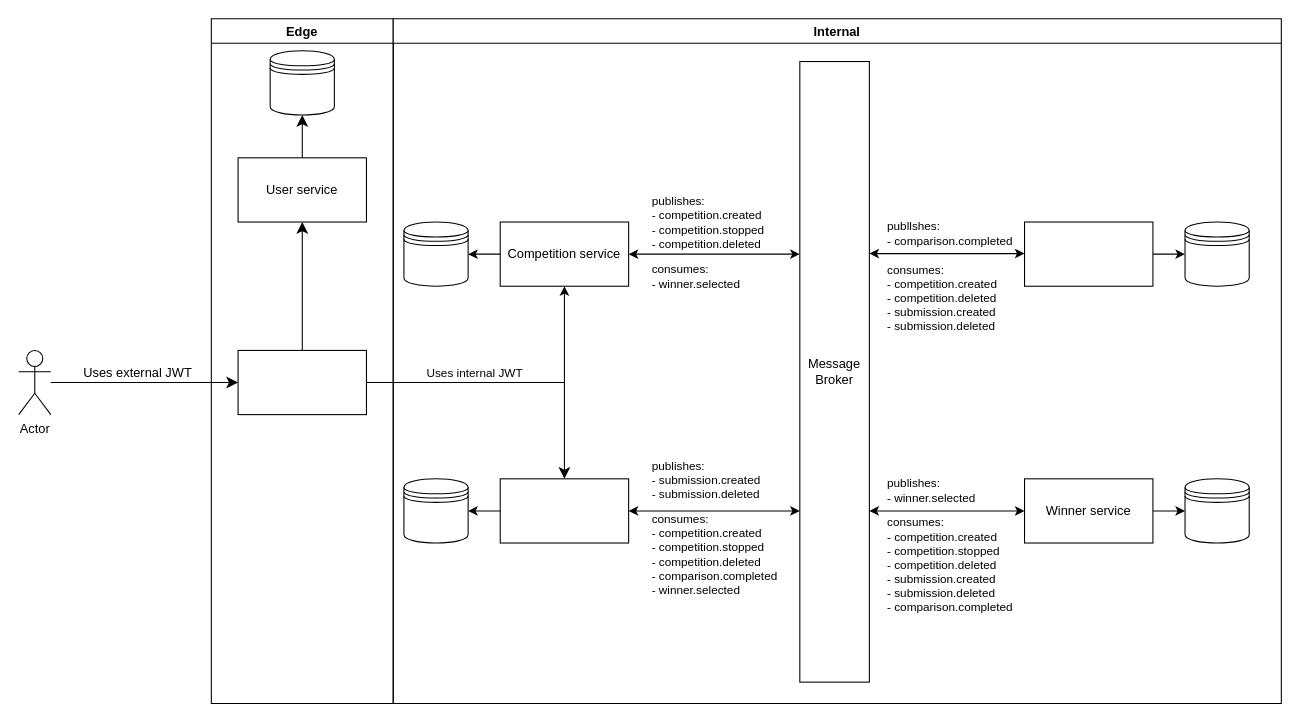
The diagram is 1300 pixels wide and 722 high, and some of its shapes have lost their labels. The shapes that lost their labels are listed below. From the top down, each one's box as (x1, y1, x2, y2) in pixels, then its label:
(1023, 221, 1153, 286): Image comparison service
(237, 349, 366, 415): API Gateway (Load balancer + circuit breaker)
(499, 478, 629, 543): Submission service
